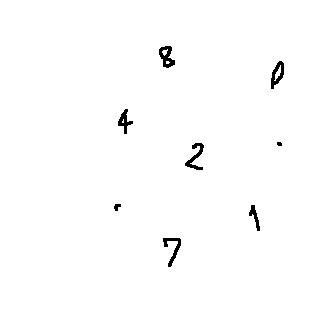.: (271, 136, 288, 157)
0: (262, 56, 298, 101)
1: (244, 197, 275, 250)
2: (181, 136, 209, 183)
4: (111, 105, 143, 149)
7: (155, 227, 189, 271)
8: (151, 43, 190, 79)
